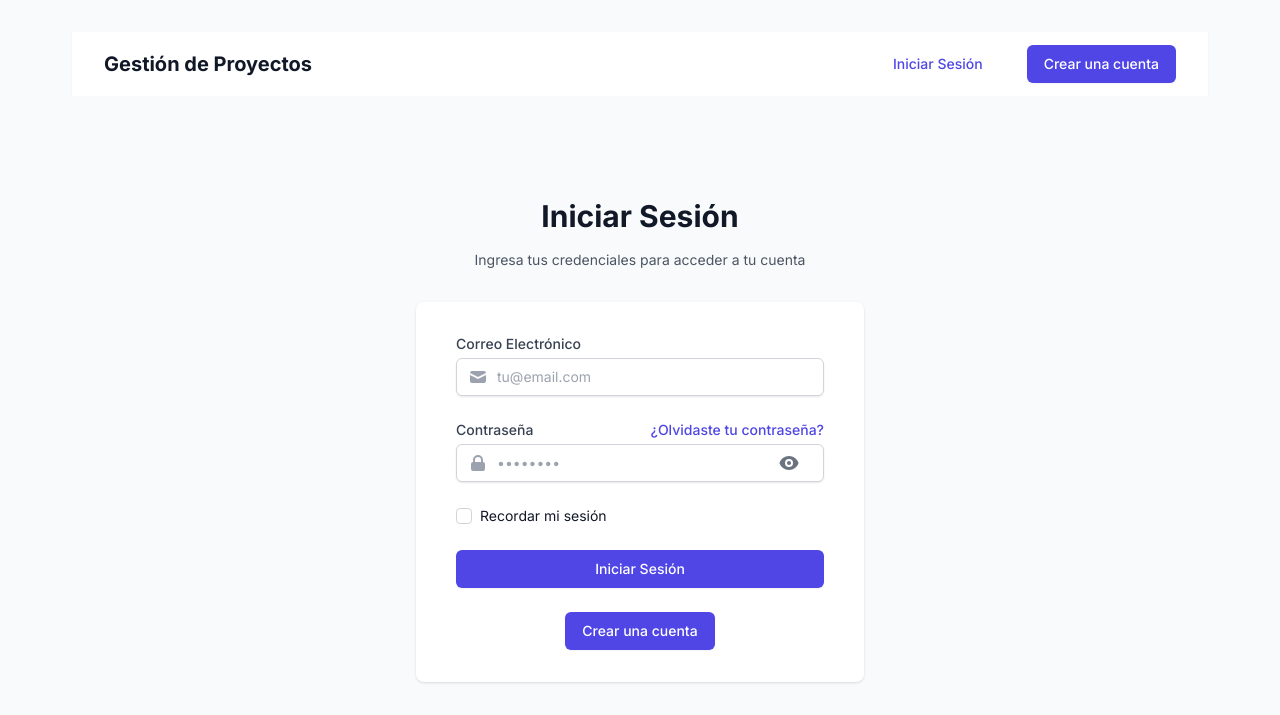
Registro de Usuario › Debe abrir el modal de registro al hacer clic en el botón "Crear una cuenta"
// Hacer clic en el botón de registro
Click the 1st button "Crear una cuenta": x=1102, y=64 [1027,45,1176,83]
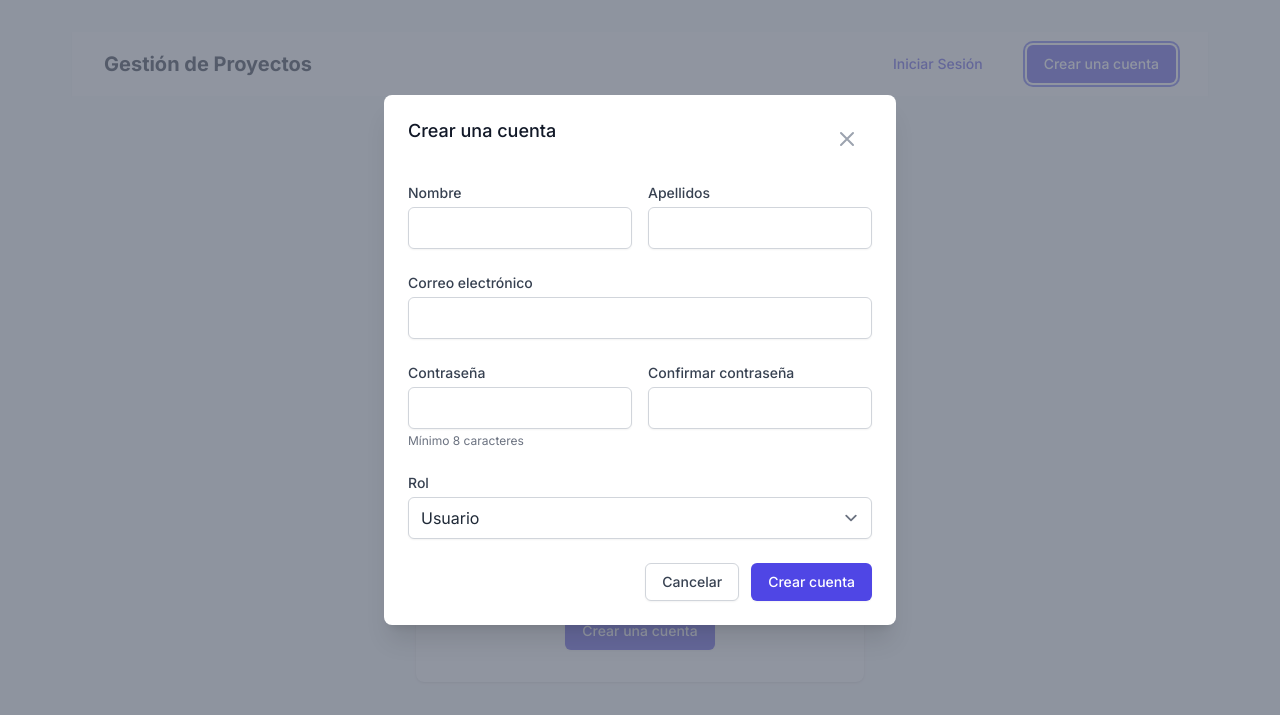
Result: the heading "Crear una cuenta" is shown at [408,119,556,143]
